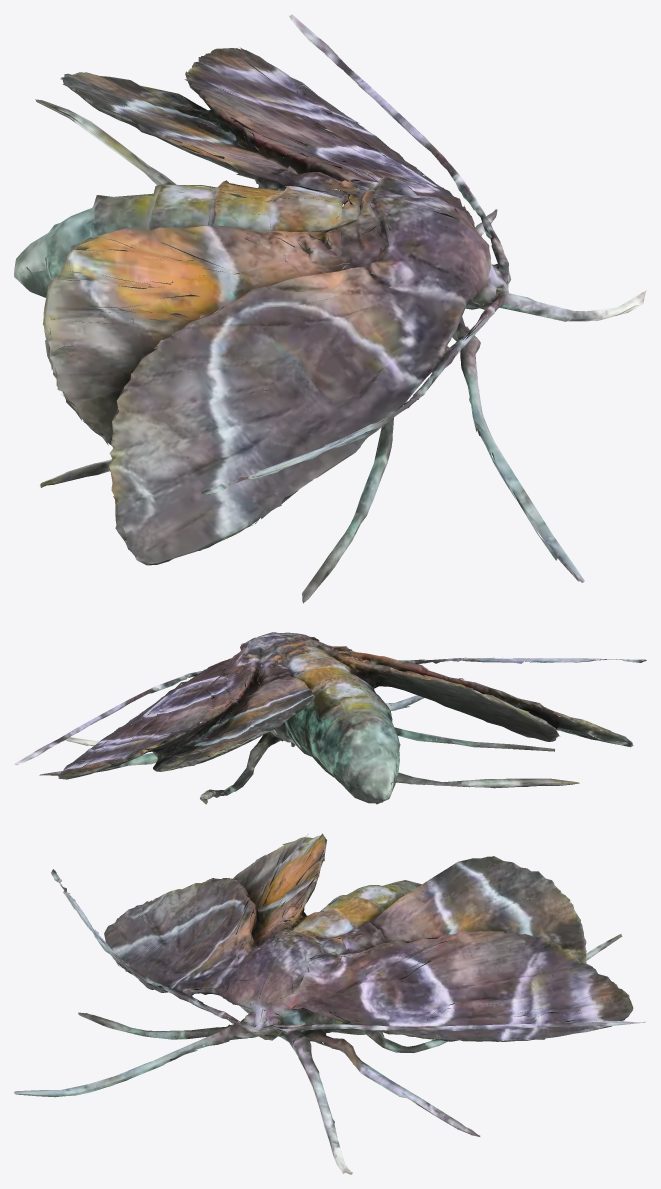
The model's file is ave_moth_number_1.glb.
The picture shows the model from 3 angles, top to bottom: view 1: azimuth 30°, elevation 25°; view 2: azimuth 150°, elevation 25°; view 3: azimuth 270°, elevation 25°; orthographic projection. The views are drawn at different scales.
Visible parts, largest first — view 1: Object_3; view 2: Object_3; view 3: Object_3.
Part boxes in pixels (x1,y1,x2,y2): Object_3: (14, 14, 646, 603); Object_3: (14, 632, 646, 804); Object_3: (14, 833, 645, 1174).
Size of the model in its own units: 0.1038 by 0.0391 by 0.1199.
1 material, 1 textured.
